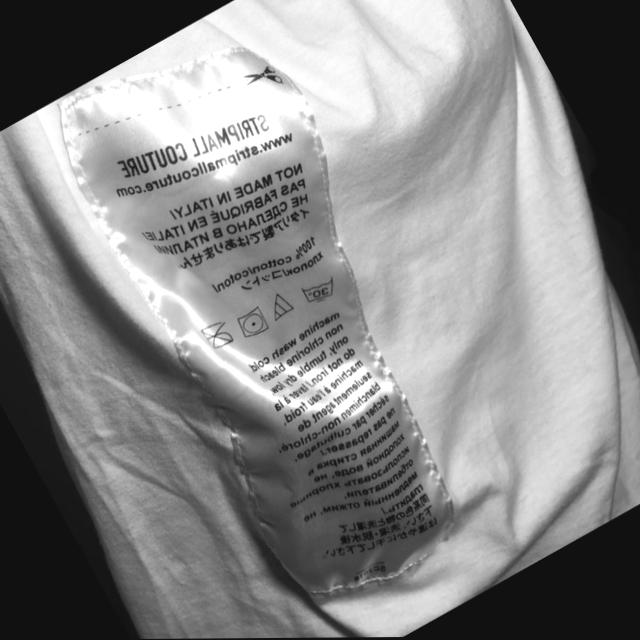30C: (302, 275, 339, 307)
DN_iron: (204, 315, 232, 352)
non_chlorine_bleach: (271, 291, 295, 325)
tumble_dry_low: (239, 302, 273, 338)
